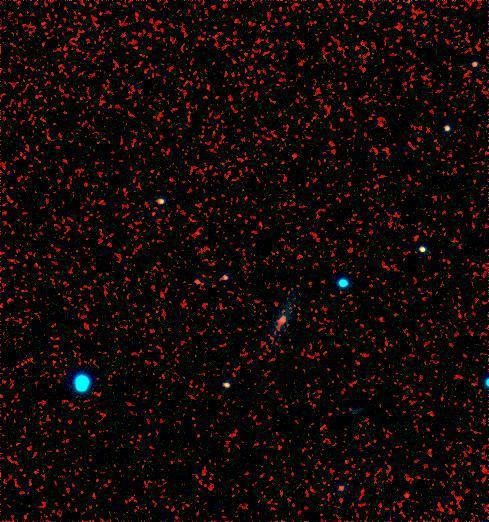star: (391, 480, 421, 510)
